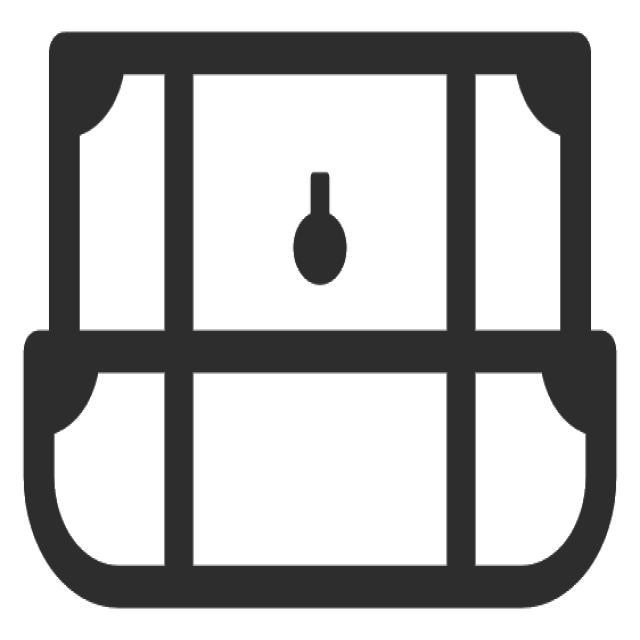treasure_box: (11, 31, 626, 619)
